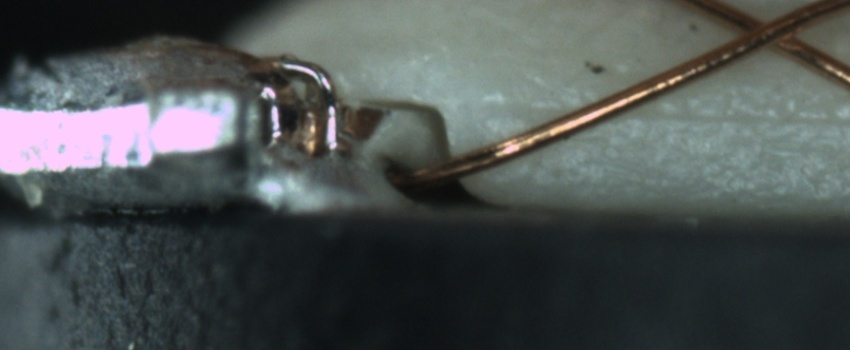CL: (718, 3, 815, 59)
DL: (513, 81, 850, 145)
TE: (244, 46, 369, 178)
